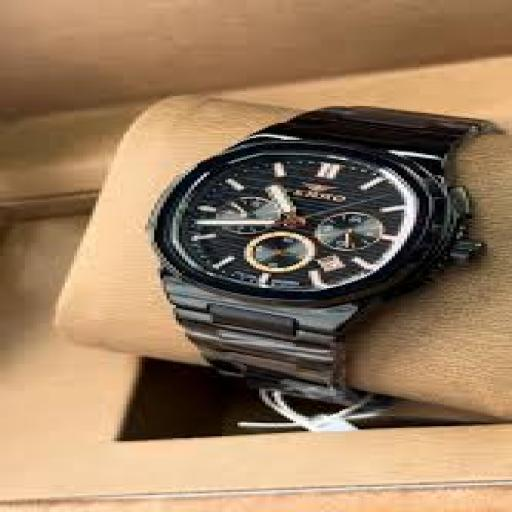KolSaati: (183, 126, 500, 430)
